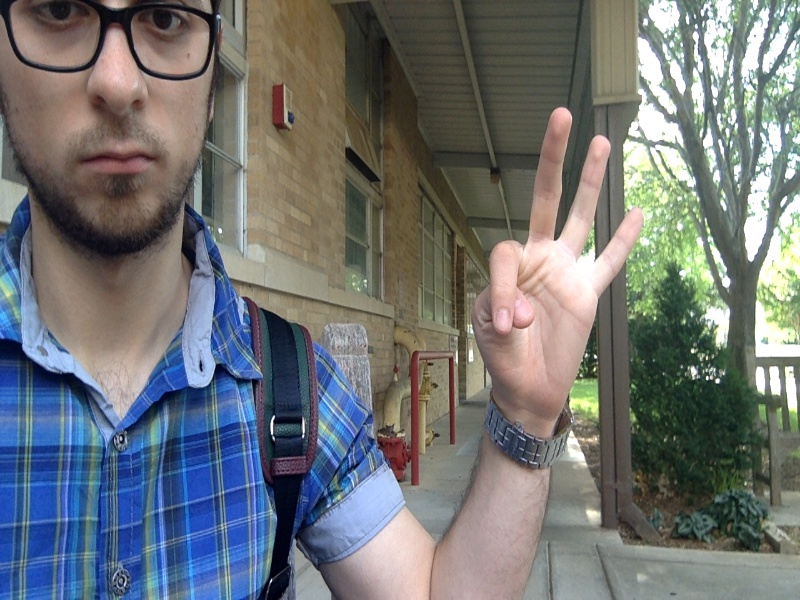3-hand: (477, 106, 644, 414)
